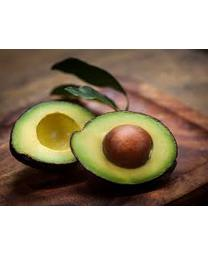avocado: (69, 110, 179, 194), (9, 100, 106, 174)
